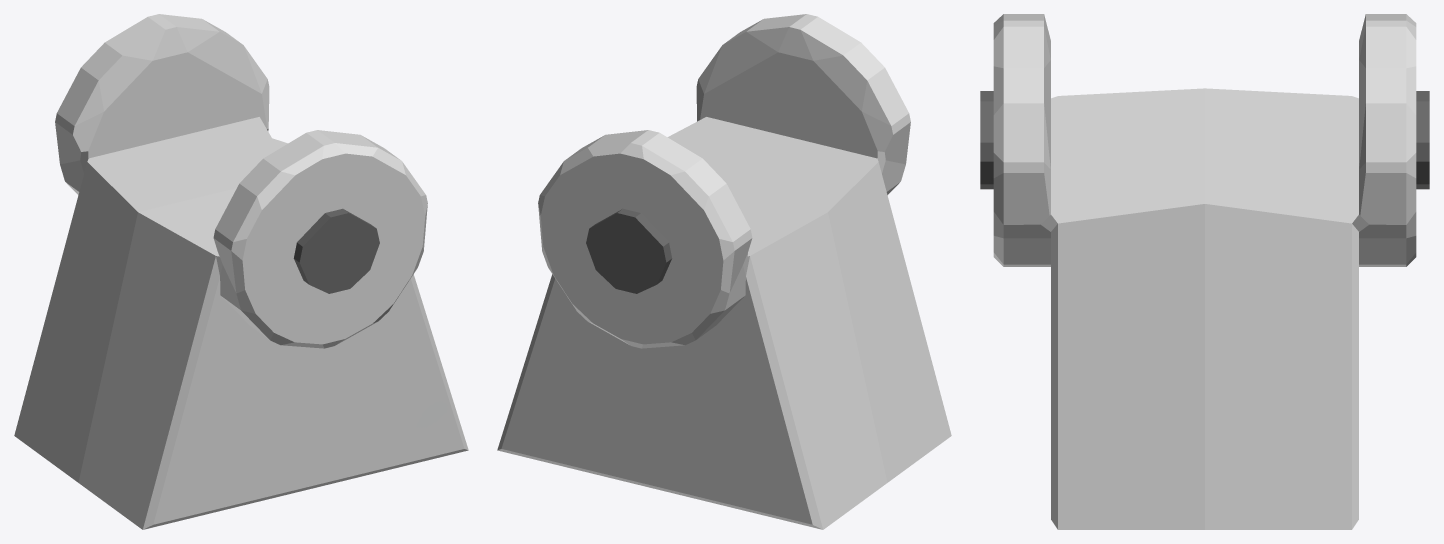
Rendered from PlatformPivot.fbx.
The picture shows the model from 3 angles, left to right: view 1: azimuth 30°, elevation 25°; view 2: azimuth 150°, elevation 25°; view 3: azimuth 270°, elevation 25°; orthographic projection. The views are drawn at different scales.
Visible parts, largest first — view 1: BalancePivot; view 2: BalancePivot; view 3: BalancePivot.
Boxes of the visible parts, x1,y1,x2,y2 form: BalancePivot: (14, 14, 468, 529); BalancePivot: (497, 14, 951, 529); BalancePivot: (980, 14, 1429, 529).
Bounding box in the file's own units: 55.22 × 56.29 × 52.86.
